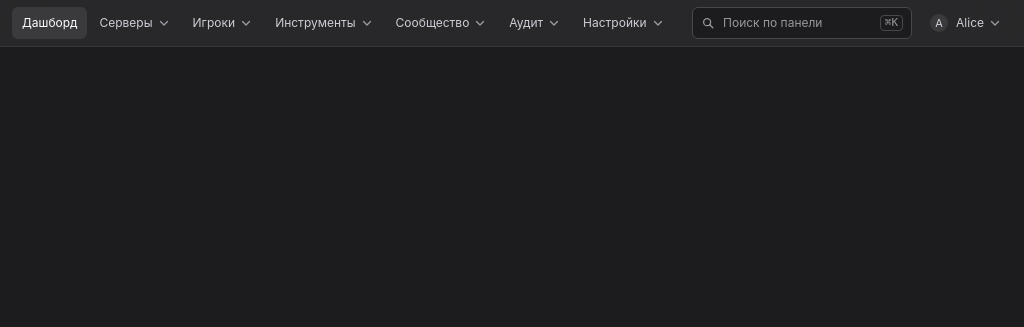
Test: TopNav › closes an open menu on Escape and on a click outside the bar
Click the button "Игроки".
click(223, 23)  # box [182,7,263,39]
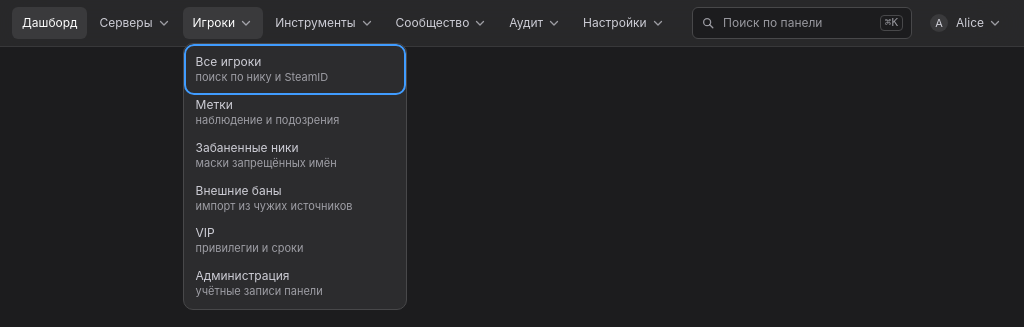
Press Escape
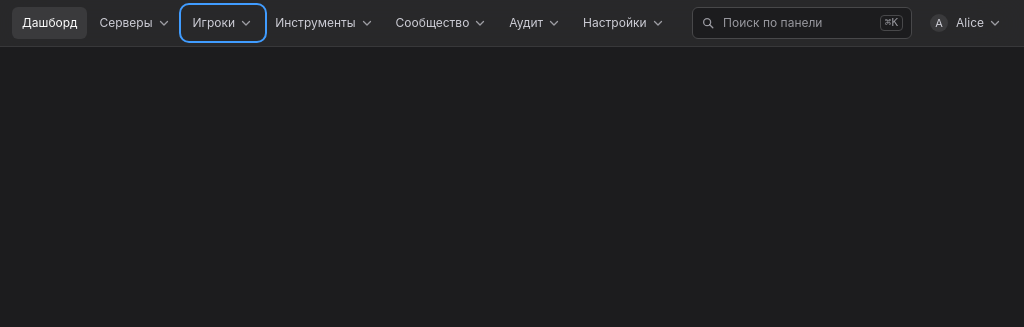
Result: the button "Игроки" is collapsed
Click the button "Игроки".
click(223, 23)  # box [182,7,263,39]
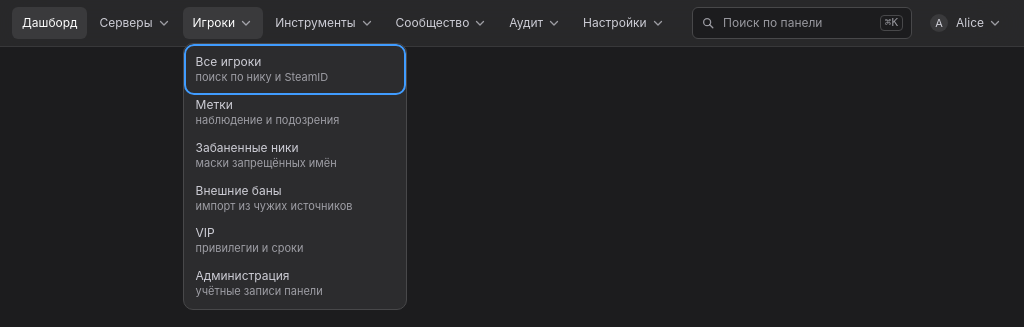
Press the mouse on the element that starts with "Дашборд" at point(512, 24), box [0,0,1023,47]
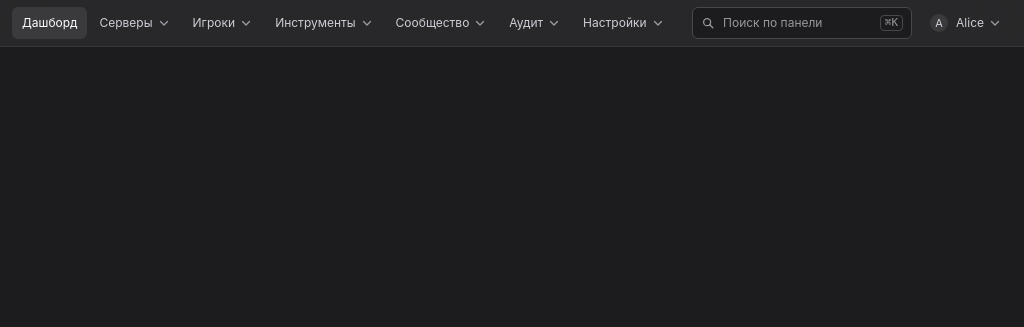
Result: the button "Игроки" is collapsed at [182,7,263,39]
